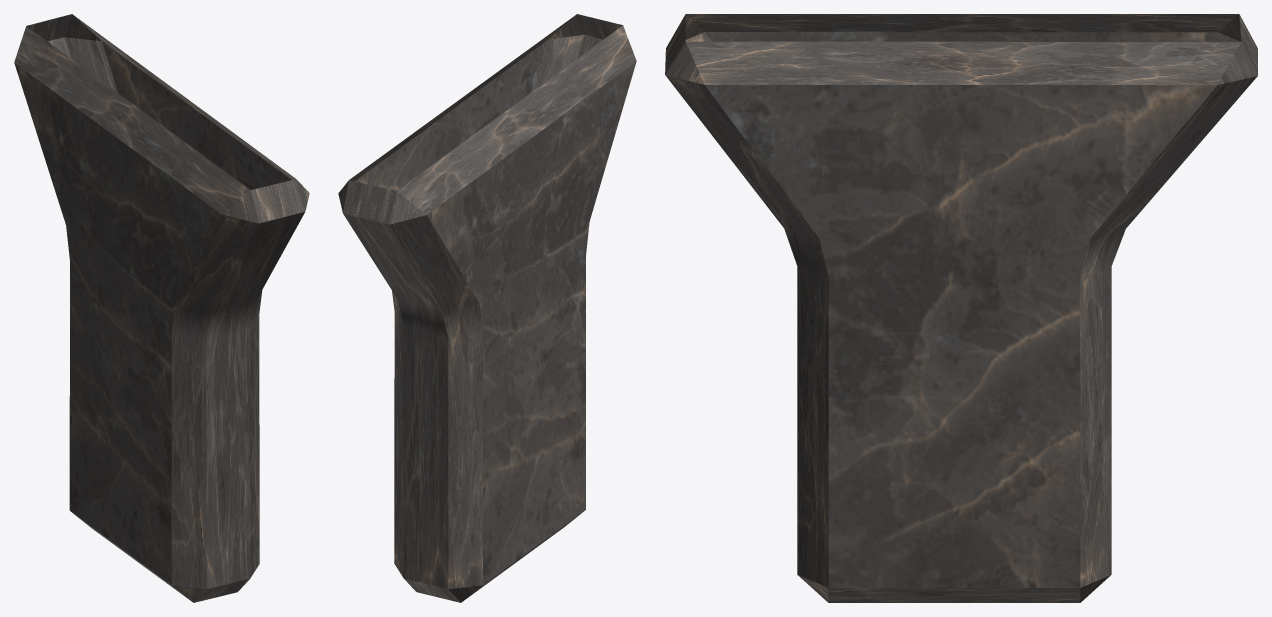
Rendered from RoadPillar_Textured.fbx.
3 renders of one model, left to right at view 1: azimuth 30°, elevation 25°; view 2: azimuth 150°, elevation 25°; view 3: azimuth 270°, elevation 25°, orthographic. The views are drawn at different scales.
Visible parts, largest first — view 1: pCube13; view 2: pCube13; view 3: pCube13.
Part boxes in pixels (bbox=[...]): pCube13: bbox=[14, 14, 309, 602]; pCube13: bbox=[338, 14, 636, 602]; pCube13: bbox=[665, 14, 1257, 602].
Size of the model in its own units: 4.12 by 20.44 by 19.55.
1 material, 1 textured.
